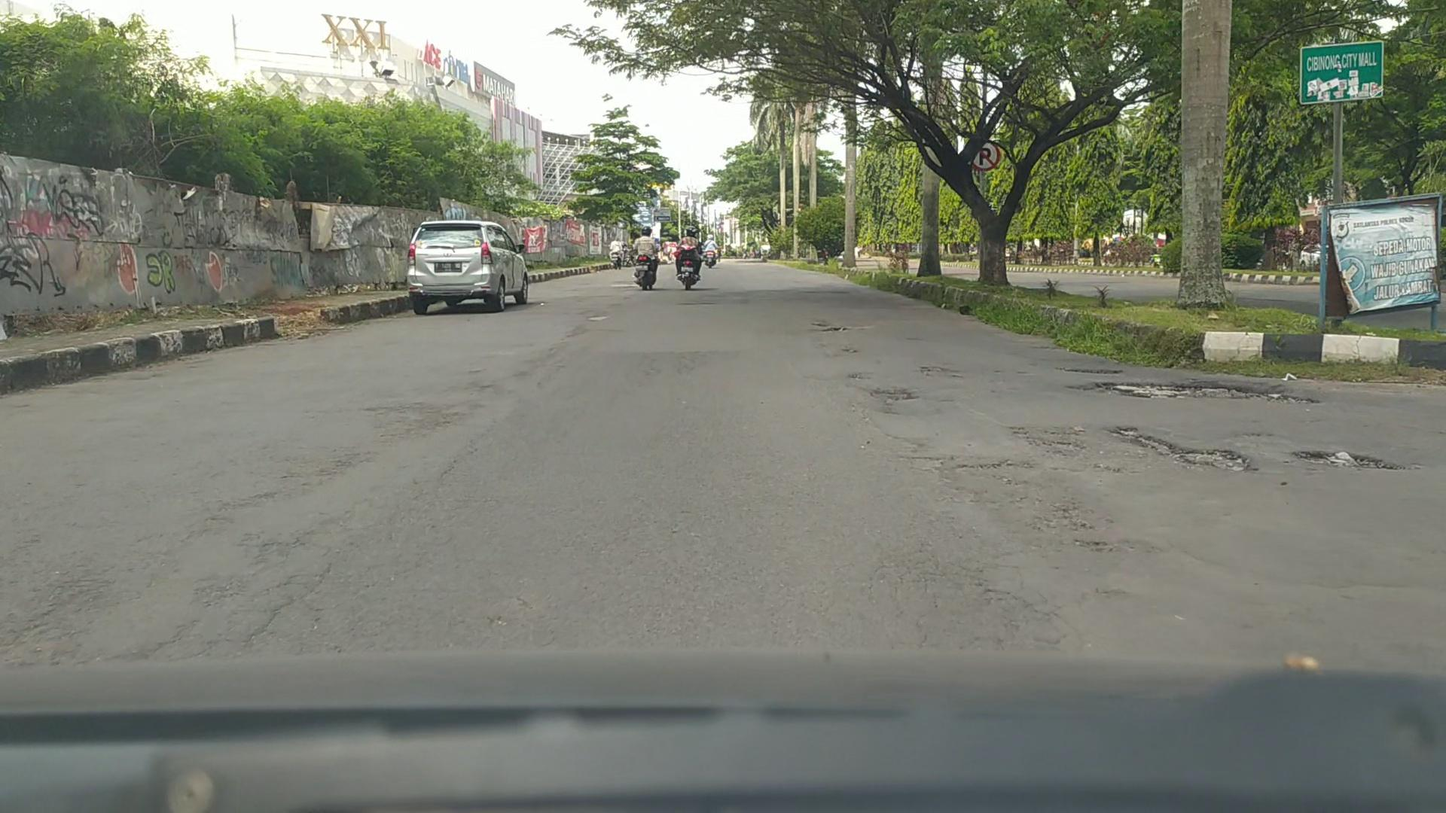pothole: (1104, 426, 1258, 473), (1068, 378, 1323, 404), (1290, 449, 1410, 473), (870, 389, 922, 404), (1057, 366, 1124, 375), (919, 365, 962, 375), (818, 326, 852, 333), (848, 374, 871, 380)
